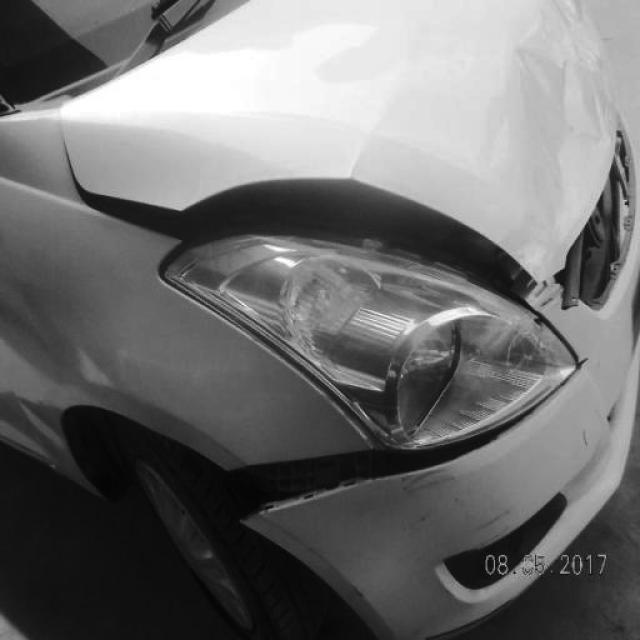car damage: (68, 149, 542, 300), (222, 364, 586, 530), (521, 4, 616, 275), (396, 487, 475, 538), (398, 467, 463, 500), (465, 507, 515, 540), (469, 524, 515, 552)
